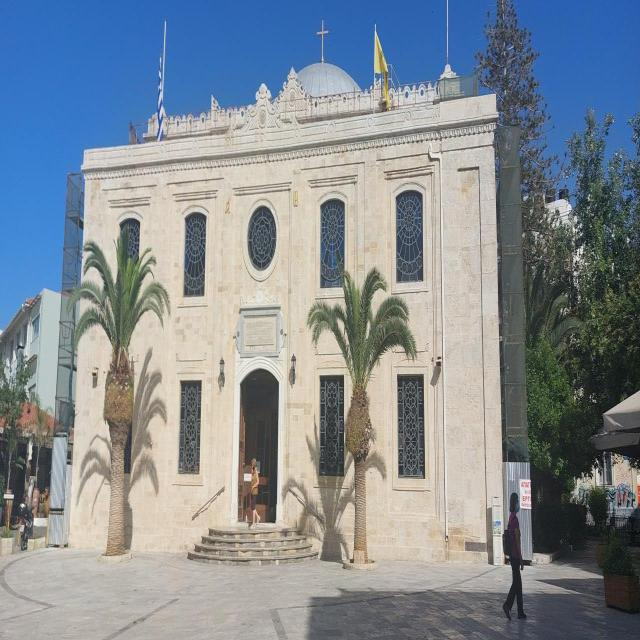Agios Titos: (75, 98, 507, 560)
